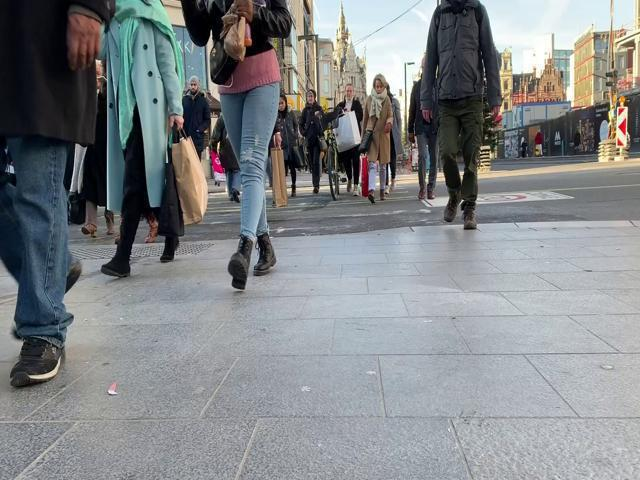shoe: (10, 338, 62, 386), (253, 233, 276, 275), (227, 253, 248, 290), (99, 256, 131, 279), (159, 236, 178, 263), (442, 195, 461, 221), (464, 206, 478, 229)
